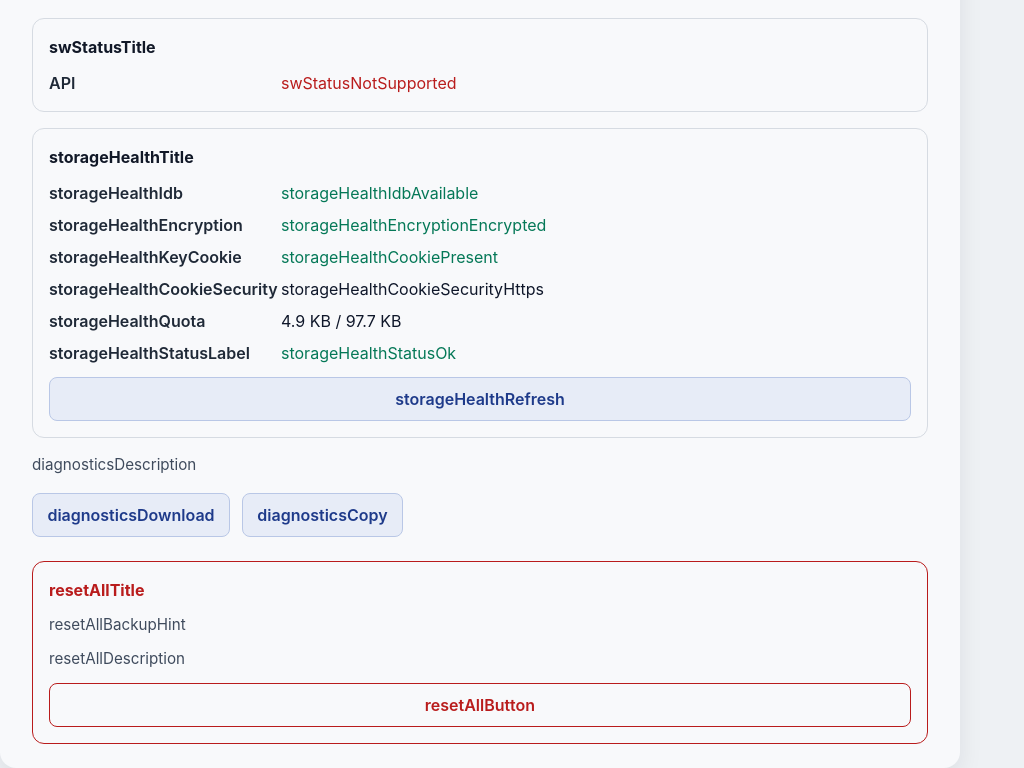
Test: HelpPage › diagnostics copy button › shows failed state when copy fails
(page scrolled)
Click the button with test id "diagnostics-copy": (322, 515) [242,493,403,537]
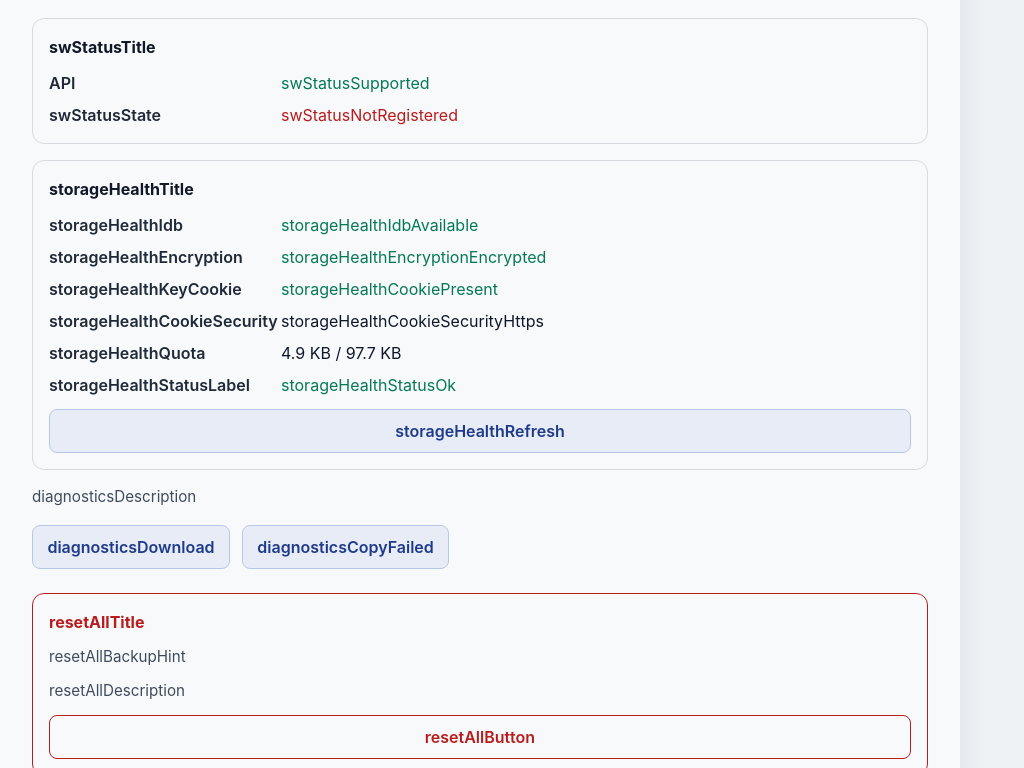
Expected: the button with test id "diagnostics-copy" reads "diagnosticsCopyFailed", [242,525,449,569]
